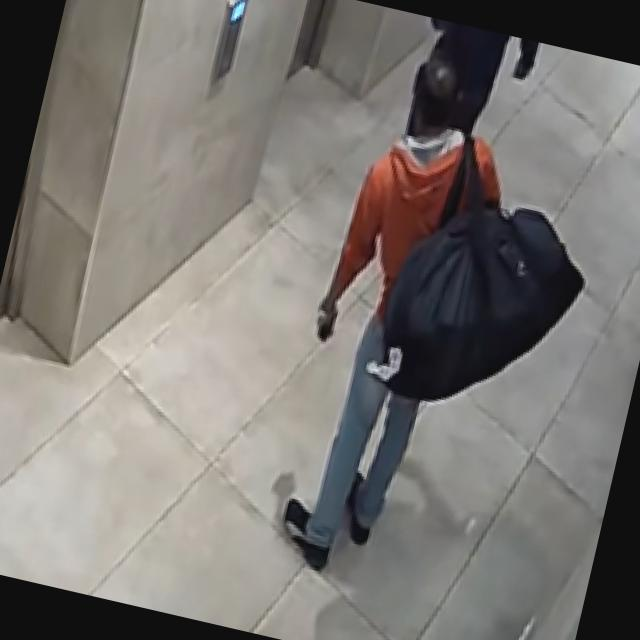person: (262, 44, 540, 595)
